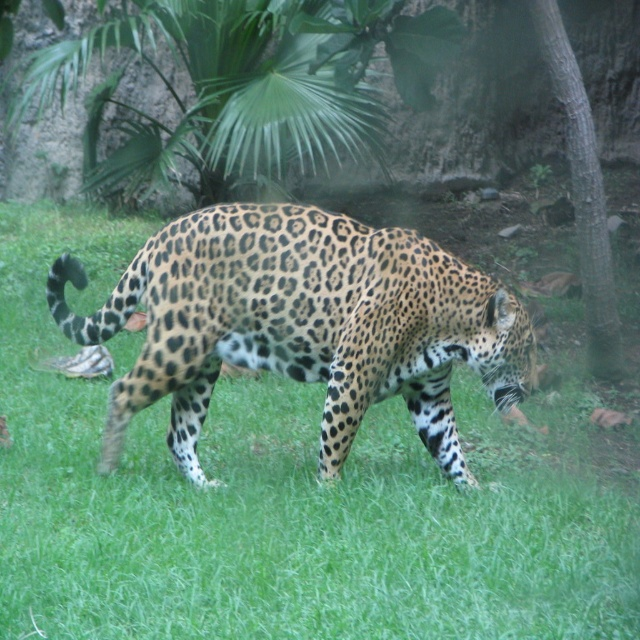Cheetah: (45, 202, 540, 498)
